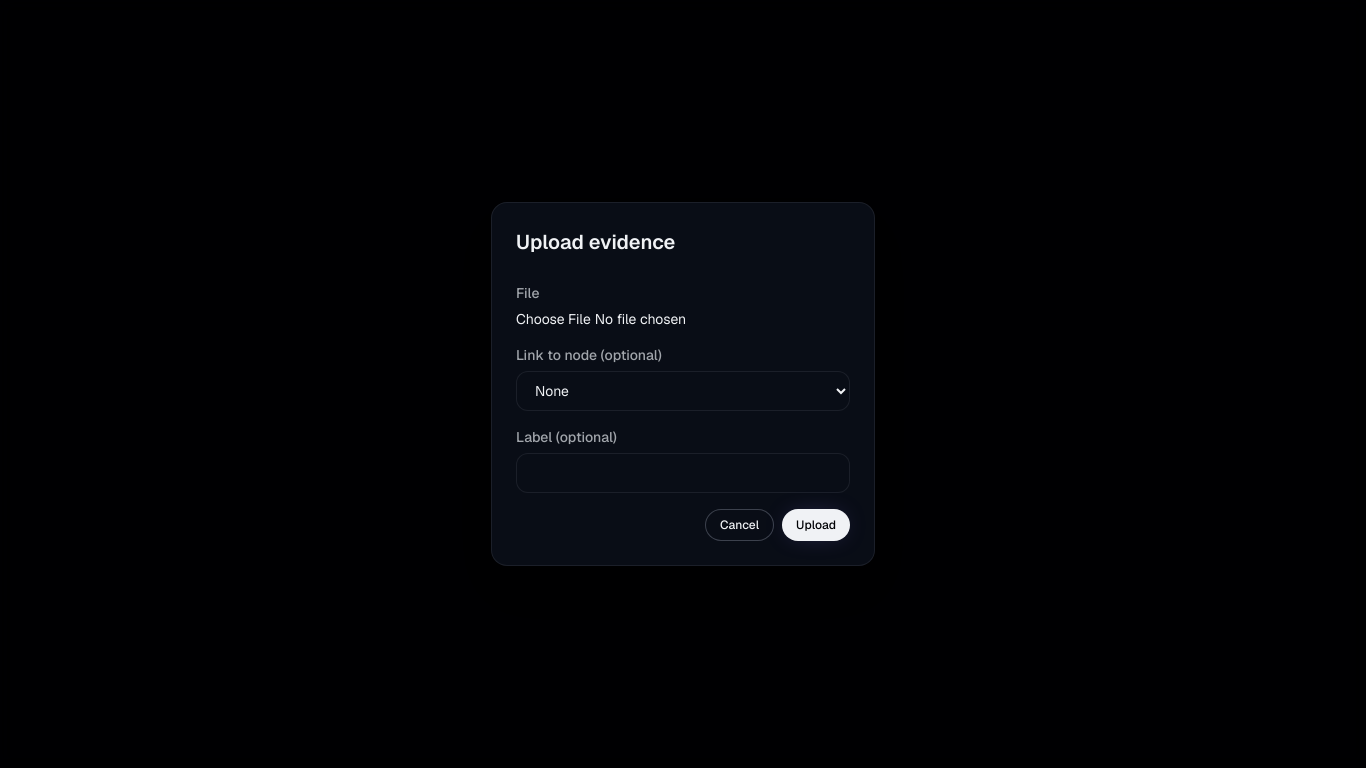
Test case: EvidenceUploadDialog › blocks submission without a file and never mutates
The width and height of the screenshot is (1366, 768).
Click the button "Upload".
click(816, 524)  # box [782,508,850,540]
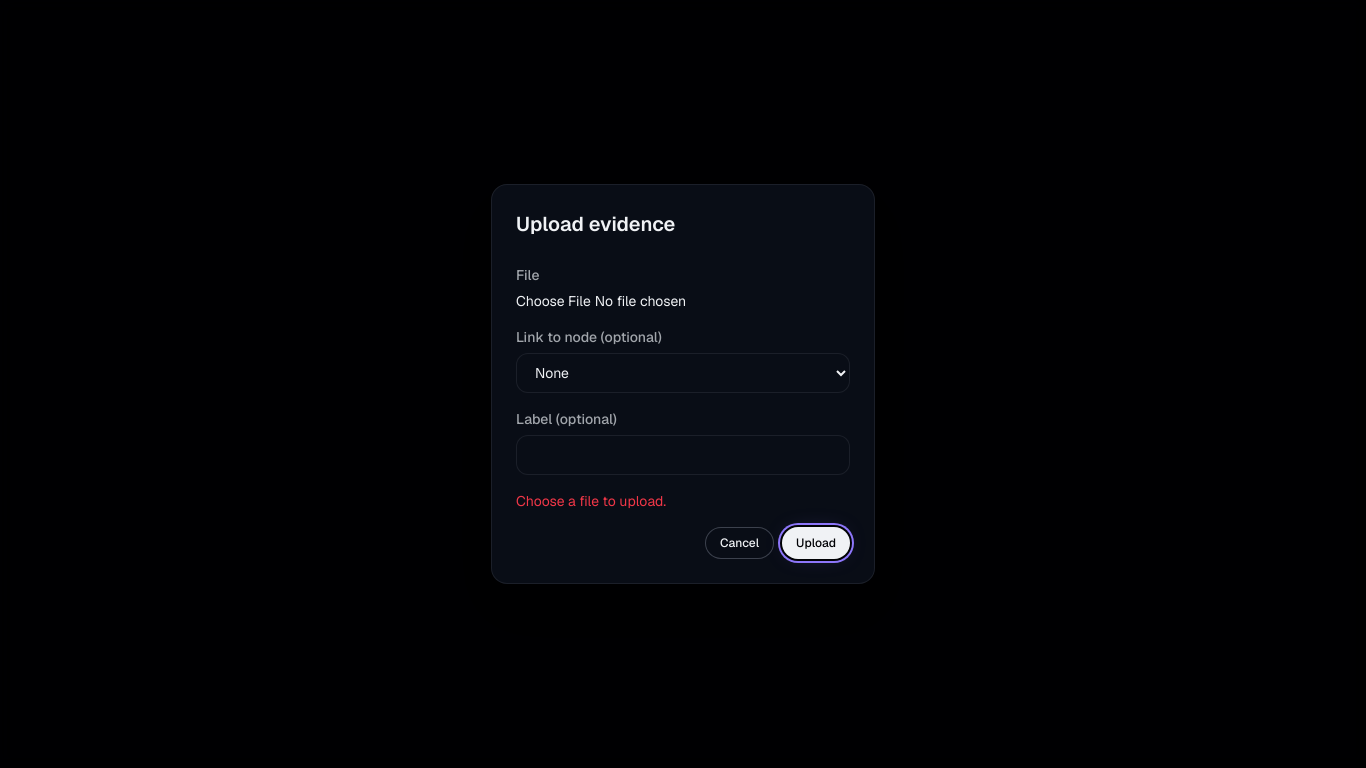
Check: the message reads "Choose a file to upload.", box [516,492,666,510]
